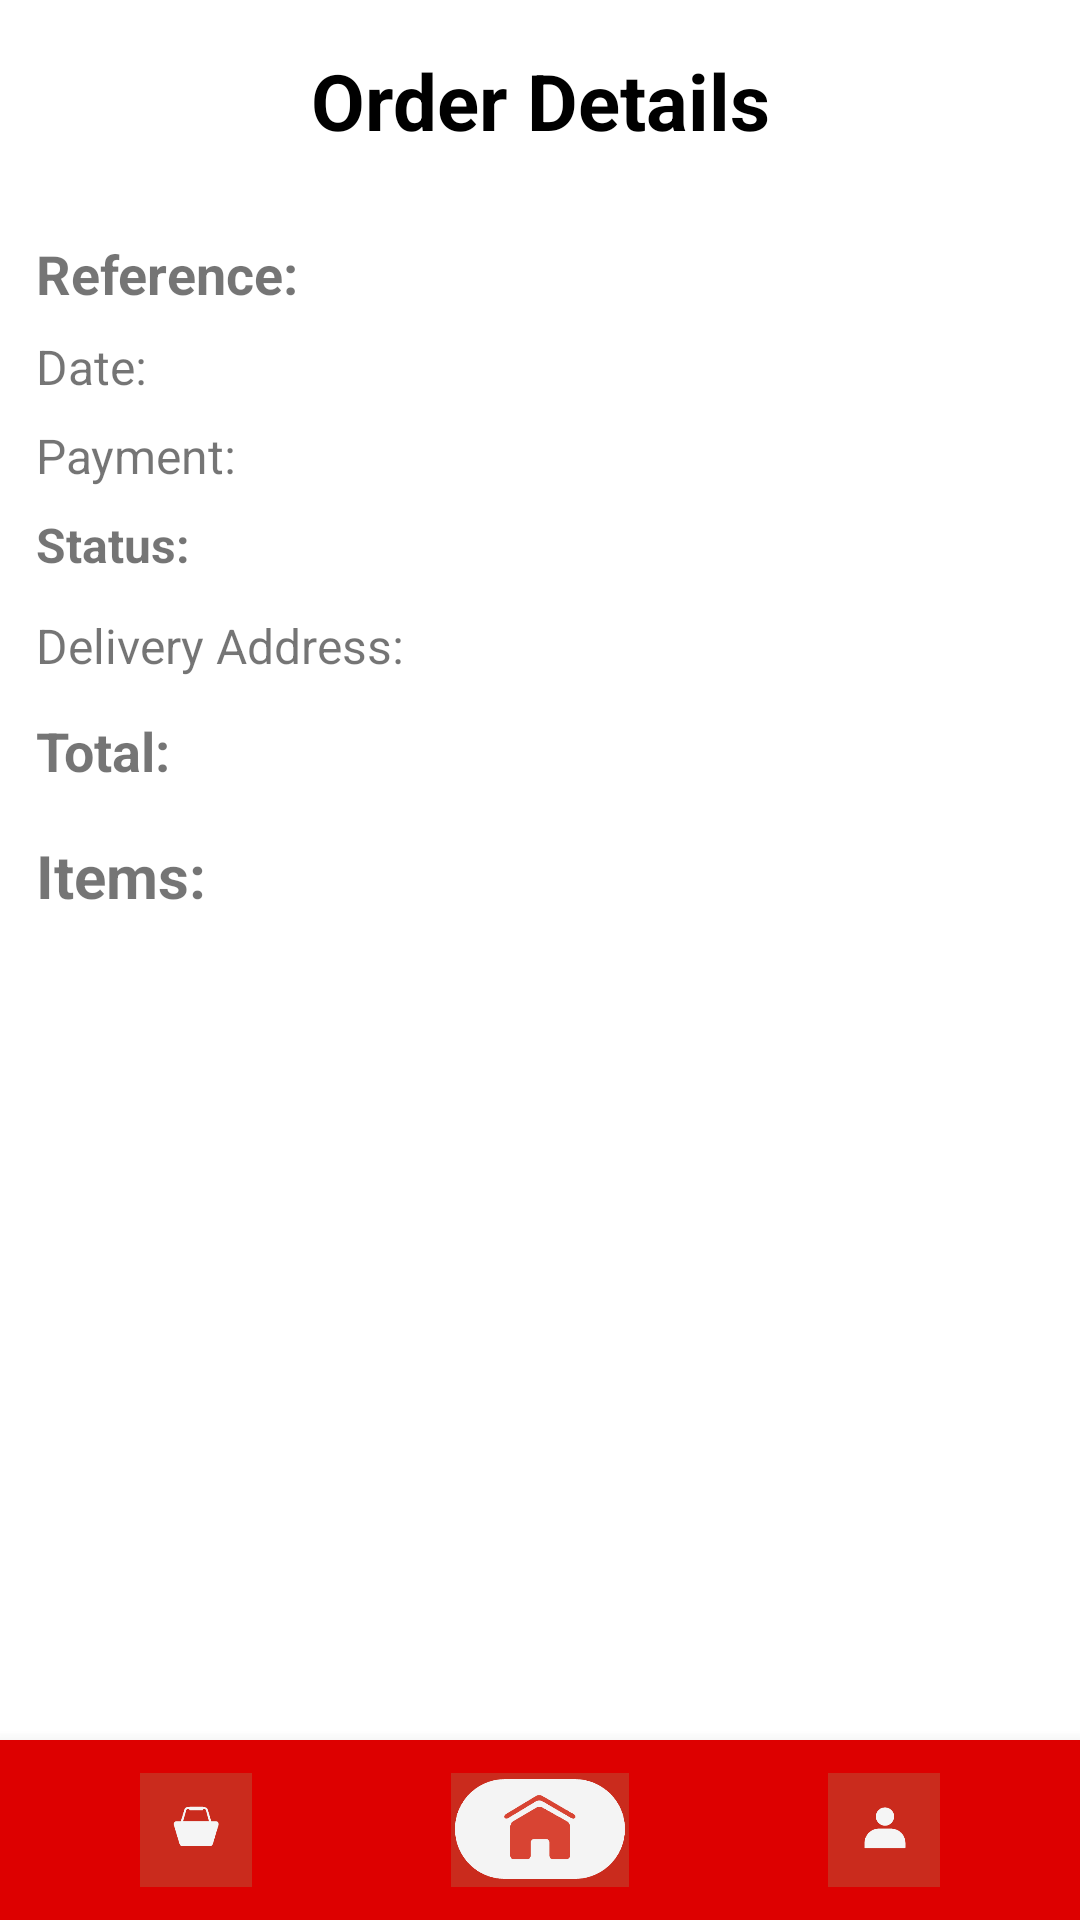

Where to tap for icons on this 1080px x 1920px app screen, as [x,y]:
Home: [540,1830]
